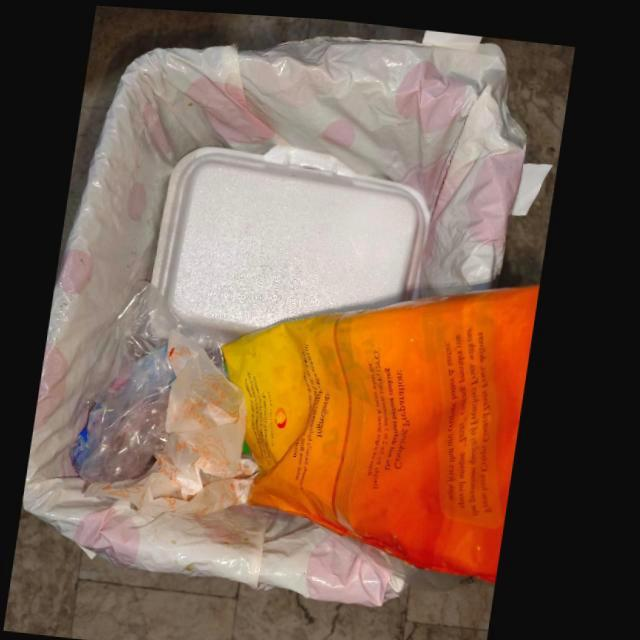food_wrapper: (227, 279, 545, 579)
paper: (95, 331, 268, 514)
plastic_bag: (78, 282, 231, 482)
